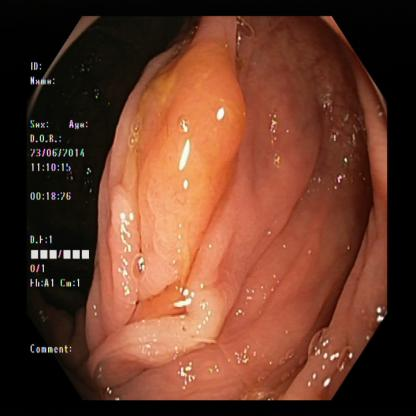Labels: (26, 56, 92, 362)
Polyps: (134, 39, 231, 268)
